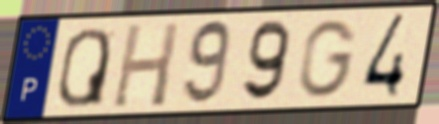4: (359, 11, 409, 102)
9: (178, 17, 233, 108), (239, 18, 294, 103)
G: (296, 17, 360, 100)
H: (109, 20, 183, 110)
Q: (55, 25, 113, 110)
